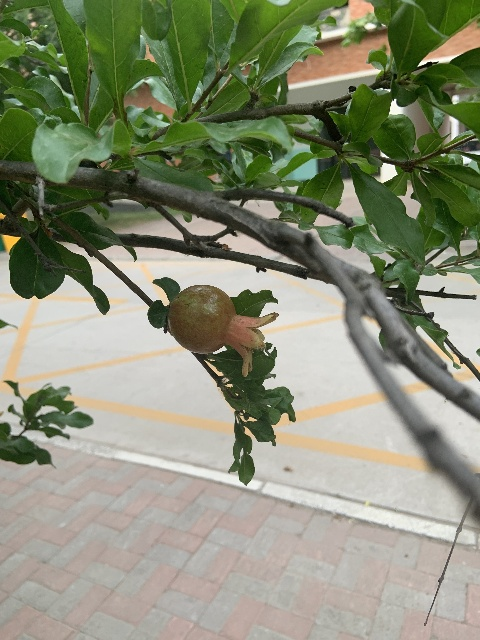early-fruit: (167, 284, 279, 376)
